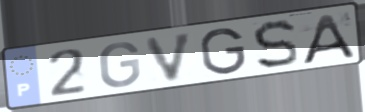2: (46, 47, 88, 99)
A: (299, 11, 358, 66)
G: (198, 26, 249, 77), (98, 40, 143, 89)
S: (250, 18, 301, 71)
V: (143, 29, 197, 84)
